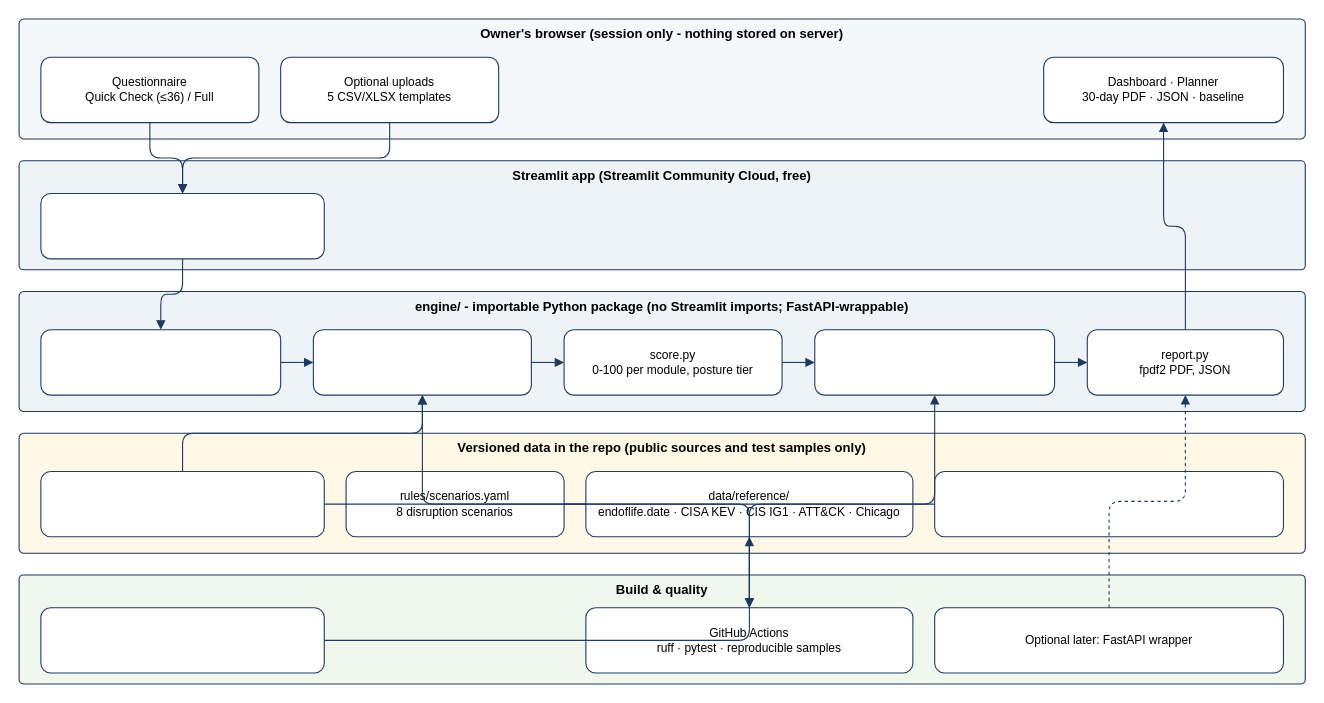
This 1324x703 diagram has some shape labels left out. Each missing label, with the centre of its shape:
"app/ pages all text from content/strings.yaml" goes at [182,225].
"evaluate.py declarative trigger DSL" goes at [421,362].
"ingest.py Pydantic validation + redact-on-ingest" goes at [160,362].
"planner.py downtime & $ ranges, rank by risk/$" goes at [934,362].
"rules/*.yaml 62 rules → CIS v8.1 IG1, NIST CSF 2.0, ATT&CK" goes at [182,503].
"sample_data/ 4 sample businesses + expected findings" goes at [1108,503].
"tools/refresh_reference_data.py monthly snapshot" goes at [182,640].
